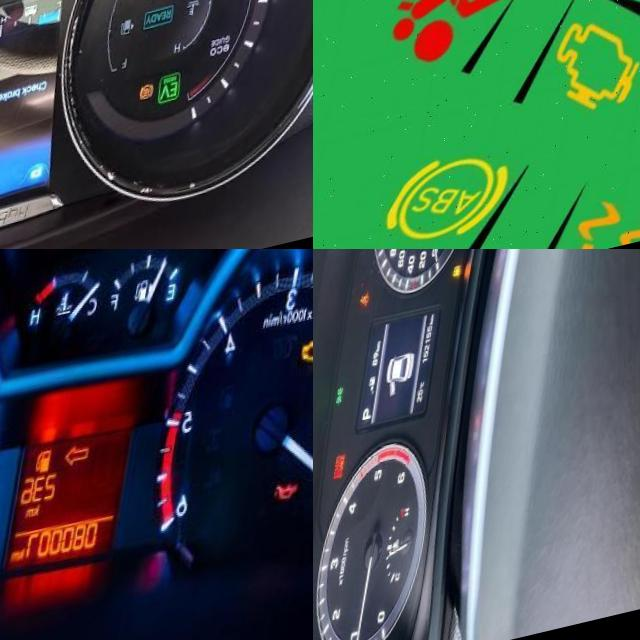Seat Belt: (366, 303, 378, 317)
